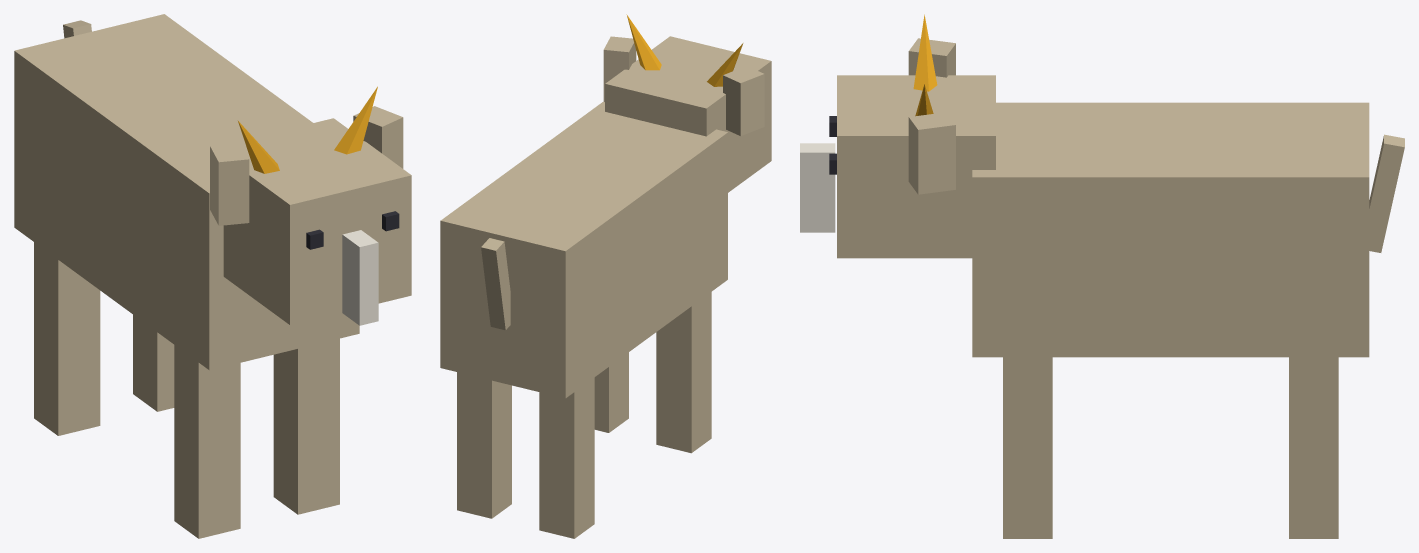
Rendered from goat.glb.
3 views of the same model, side by side, from view 1: azimuth 30°, elevation 25°; view 2: azimuth 150°, elevation 25°; view 3: azimuth 270°, elevation 25° (orthographic). The views are drawn at different scales.
Parts seen in each view (by area): view 1: goat; view 2: goat; view 3: goat.
Part boxes in pixels (x1=…): goat: x1=14, y1=14, x2=411, y2=538; goat: x1=440, y1=14, x2=771, y2=538; goat: x1=800, y1=14, x2=1404, y2=538.
Bounding box in the file's own units: 0.4914 × 1.14 × 1.37.
